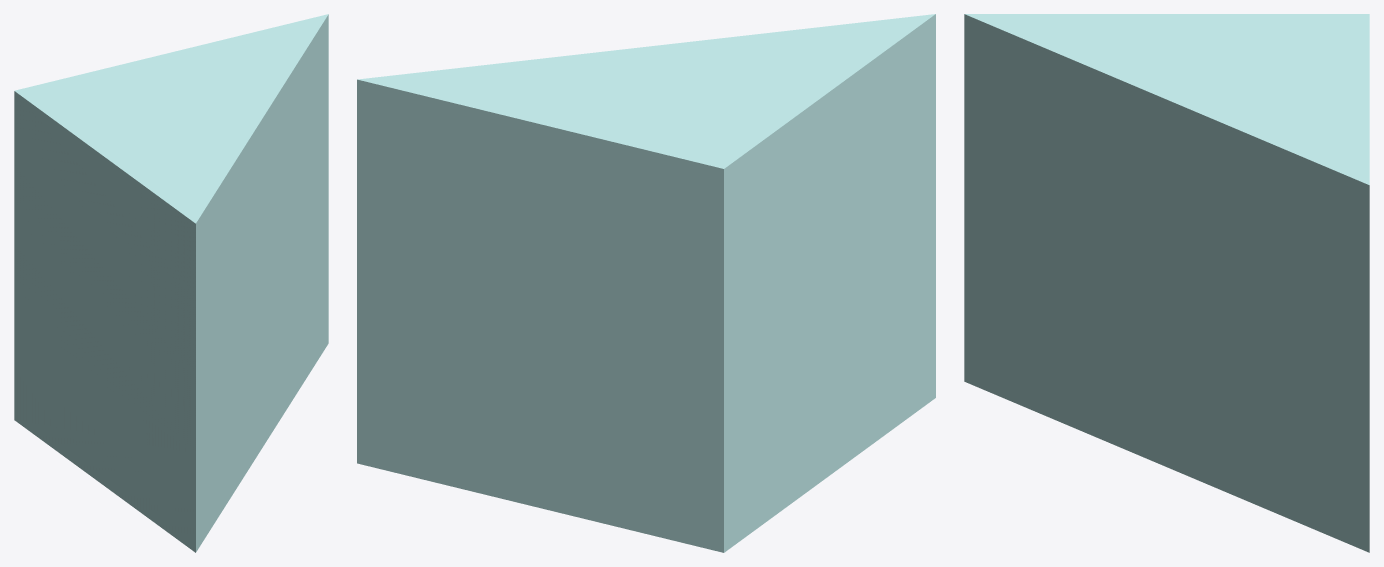
Rendered from ThinConveyor_VerticalSlope.glb.
3 views of the same model, side by side, from view 1: azimuth 30°, elevation 25°; view 2: azimuth 150°, elevation 25°; view 3: azimuth 270°, elevation 25° (orthographic). The views are drawn at different scales.
Parts seen in each view (by area): view 1: ThinConveyor_VerticalSlope_body; view 2: ThinConveyor_VerticalSlope_body; view 3: ThinConveyor_VerticalSlope_body.
Boxes of the visible parts, left/top/right/bottom form: ThinConveyor_VerticalSlope_body: left=14, top=14, right=328, bottom=552; ThinConveyor_VerticalSlope_body: left=357, top=14, right=935, bottom=552; ThinConveyor_VerticalSlope_body: left=964, top=14, right=1369, bottom=552.
Size of the model in its own units: 1 by 1 by 1.
